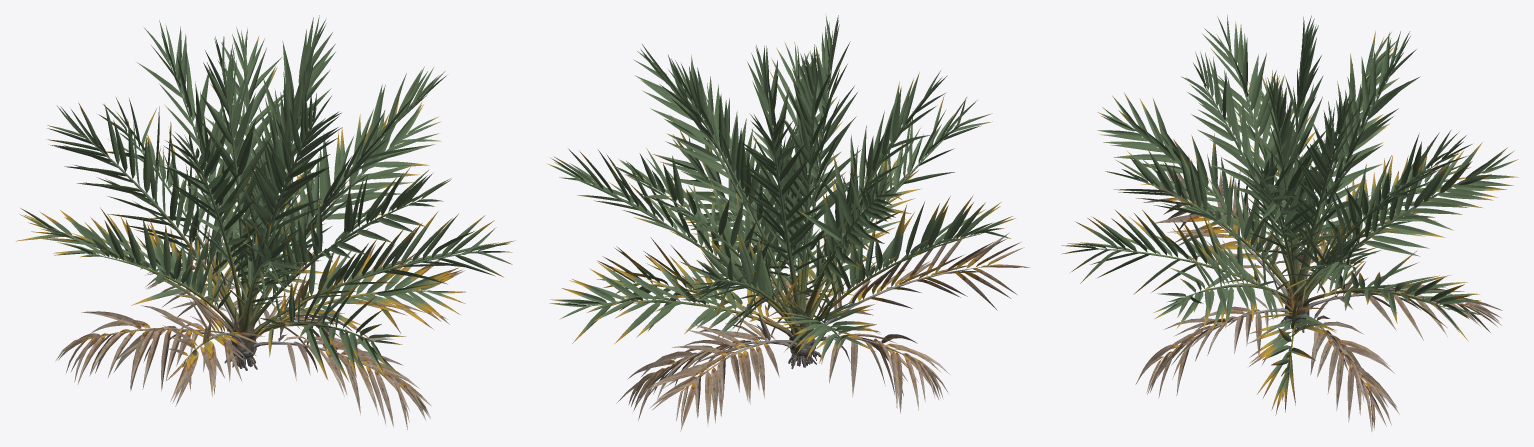
The model's file is date_palm0.glb.
The picture shows the model from 3 angles, left to right: view 1: azimuth 30°, elevation 25°; view 2: azimuth 150°, elevation 25°; view 3: azimuth 270°, elevation 25°; orthographic projection. The views are drawn at different scales.
Visible parts, largest first — view 1: Phoenix_dactylifera_HD_Phoenix dact lft 01c_0, Phoenix_dactylifera_HD_Phoenix dact lft 01a_0, Phoenix_dactylifera_HD_Phoenix dact lft 01b_0, Phoenix_dactylifera_HD_Phoenix dac stk 1a_0, Phoenix_dactylifera_HD_Phoenix dac stk 1_0, Phoenix_dactylifera_HD_Phoenix dac stk 1b_0, Phoenix_dactylifera_HD_Phoenix dac dead stk 2_0; view 2: Phoenix_dactylifera_HD_Phoenix dact lft 01c_0, Phoenix_dactylifera_HD_Phoenix dact lft 01a_0, Phoenix_dactylifera_HD_Phoenix dact lft 01b_0, Phoenix_dactylifera_HD_Phoenix dac stk 1_0, Phoenix_dactylifera_HD_Phoenix dac stk 1a_0, Phoenix_dactylifera_HD_Phoenix dac stk 1b_0, Phoenix_dactylifera_HD_Phoenix dac dead stk 2_0; view 3: Phoenix_dactylifera_HD_Phoenix dact lft 01a_0, Phoenix_dactylifera_HD_Phoenix dact lft 01b_0, Phoenix_dactylifera_HD_Phoenix dact lft 01c_0, Phoenix_dactylifera_HD_Phoenix dac stk 1a_0, Phoenix_dactylifera_HD_Phoenix dac stk 1_0, Phoenix_dactylifera_HD_Phoenix dac dead stk 2_0, Phoenix_dactylifera_HD_Phoenix dac stk 1b_0.
Boxes of the visible parts, box(x1,y1,x2,y2) form: Phoenix_dactylifera_HD_Phoenix dact lft 01c_0: box(16, 26, 512, 425); Phoenix_dactylifera_HD_Phoenix dact lft 01a_0: box(19, 17, 514, 418); Phoenix_dactylifera_HD_Phoenix dact lft 01b_0: box(20, 15, 503, 429); Phoenix_dactylifera_HD_Phoenix dac stk 1a_0: box(83, 109, 477, 335); Phoenix_dactylifera_HD_Phoenix dac stk 1_0: box(170, 67, 418, 323); Phoenix_dactylifera_HD_Phoenix dac stk 1b_0: box(51, 209, 373, 342); Phoenix_dactylifera_HD_Phoenix dac dead stk 2_0: box(88, 258, 402, 384); Phoenix_dactylifera_HD_Phoenix dact lft 01c_0: box(554, 31, 1020, 421); Phoenix_dactylifera_HD_Phoenix dact lft 01a_0: box(547, 14, 1029, 431); Phoenix_dactylifera_HD_Phoenix dact lft 01b_0: box(549, 22, 1012, 424); Phoenix_dactylifera_HD_Phoenix dac stk 1_0: box(667, 66, 832, 323); Phoenix_dactylifera_HD_Phoenix dac stk 1a_0: box(602, 81, 955, 336); Phoenix_dactylifera_HD_Phoenix dac stk 1b_0: box(592, 233, 981, 340); Phoenix_dactylifera_HD_Phoenix dac dead stk 2_0: box(656, 265, 990, 390); Phoenix_dactylifera_HD_Phoenix dact lft 01a_0: box(1087, 15, 1518, 431); Phoenix_dactylifera_HD_Phoenix dact lft 01b_0: box(1061, 31, 1513, 431); Phoenix_dactylifera_HD_Phoenix dact lft 01c_0: box(1061, 15, 1506, 426); Phoenix_dactylifera_HD_Phoenix dac stk 1a_0: box(1129, 59, 1484, 304); Phoenix_dactylifera_HD_Phoenix dac stk 1_0: box(1203, 49, 1395, 295); Phoenix_dactylifera_HD_Phoenix dac dead stk 2_0: box(1161, 206, 1460, 389); Phoenix_dactylifera_HD_Phoenix dac stk 1b_0: box(1096, 172, 1449, 309).
Bounding box in the file's own units: 1.67 × 1.41 × 1.67.
Materials: 10 (10 with a texture image).
